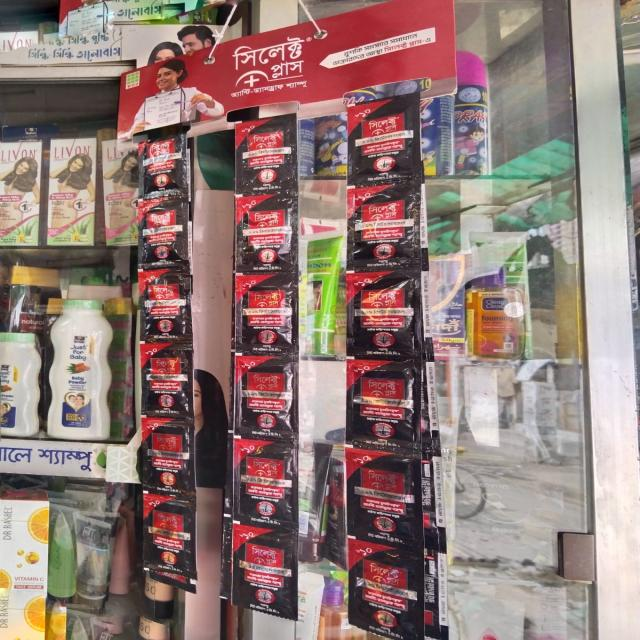non-ubl: (345, 452, 427, 552), (342, 272, 428, 364), (344, 88, 424, 186), (348, 543, 427, 640), (344, 362, 426, 447), (229, 527, 300, 624), (344, 184, 424, 260), (230, 440, 300, 526), (142, 497, 199, 591), (231, 358, 298, 435), (236, 197, 298, 272), (233, 274, 300, 343), (141, 420, 198, 500), (138, 344, 196, 419), (237, 120, 294, 193), (140, 272, 194, 338), (137, 196, 185, 268), (136, 143, 186, 198)
